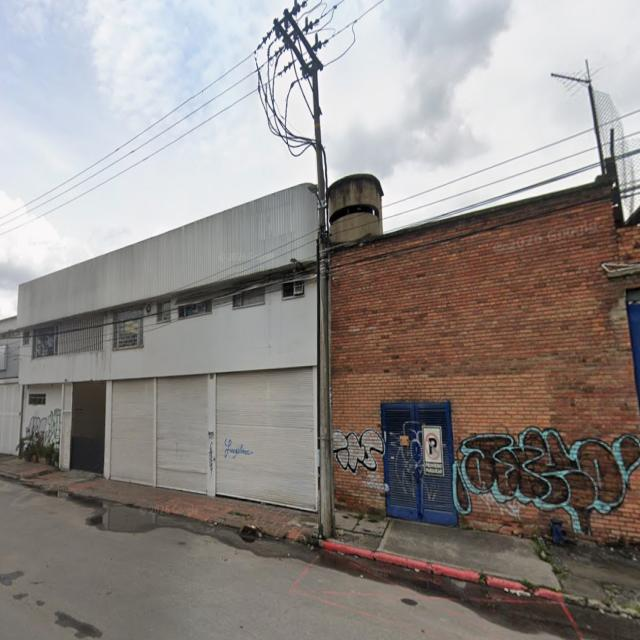fachada: (331, 179, 639, 542), (18, 185, 317, 510), (0, 317, 21, 455)
poste: (312, 70, 334, 537), (586, 61, 605, 174)
